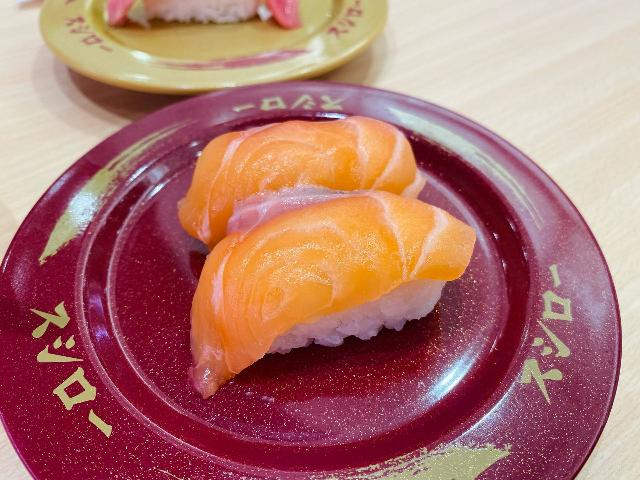jangold: (27, 0, 412, 111)
janred: (27, 96, 584, 475)
